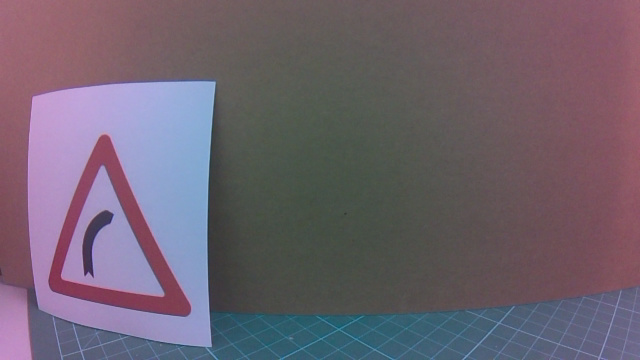right: (50, 132, 228, 308)
